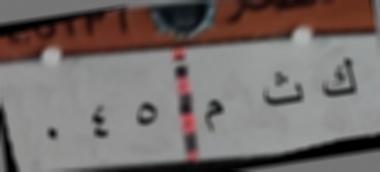0: (44, 115, 72, 153)
4: (86, 99, 112, 140)
5: (126, 94, 166, 138)
kaaf: (318, 52, 360, 110)
meem: (198, 91, 232, 138)
thaa: (257, 64, 307, 117)
